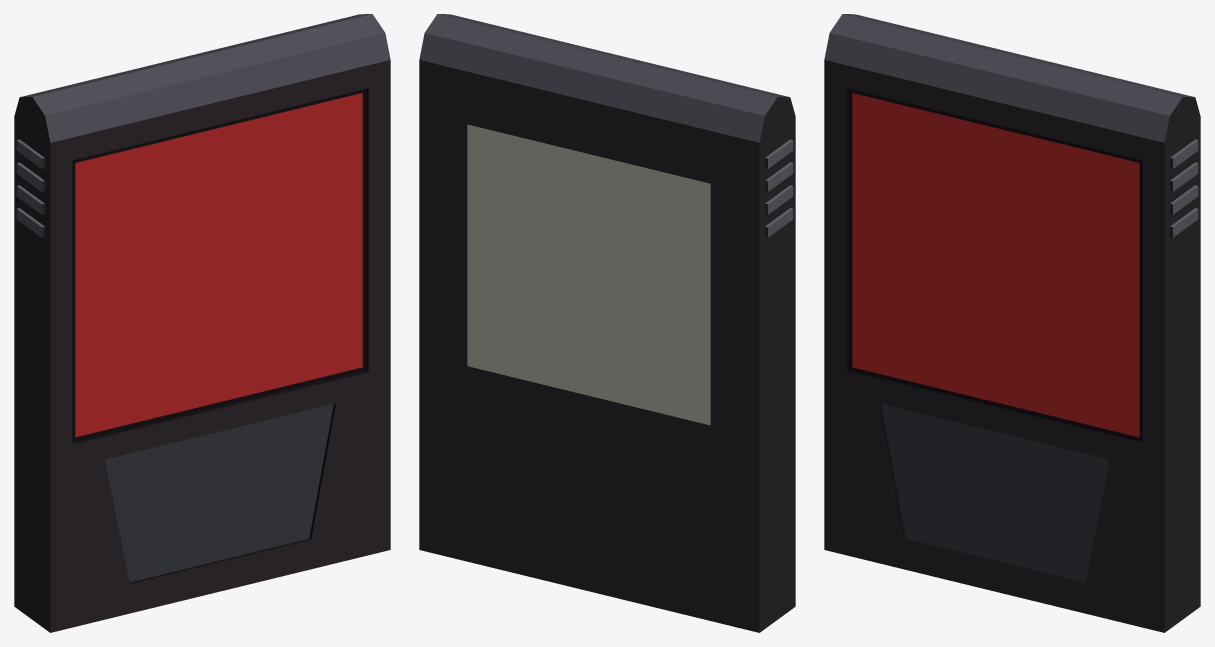
The model's file is sega32x.obj.
3 views of the same model, side by side, from view 1: azimuth 30°, elevation 25°; view 2: azimuth 150°, elevation 25°; view 3: azimuth 330°, elevation 25° (orthographic).
Parts seen in each view (by area): view 1: sega32x; view 2: sega32x; view 3: sega32x.
Boxes of the visible parts, x1=… form: sega32x: x1=14, y1=14, x2=390, y2=632; sega32x: x1=419, y1=14, x2=795, y2=632; sega32x: x1=824, y1=14, x2=1200, y2=632.
Size of the model in its own units: 11.1 by 16 by 2.03.
